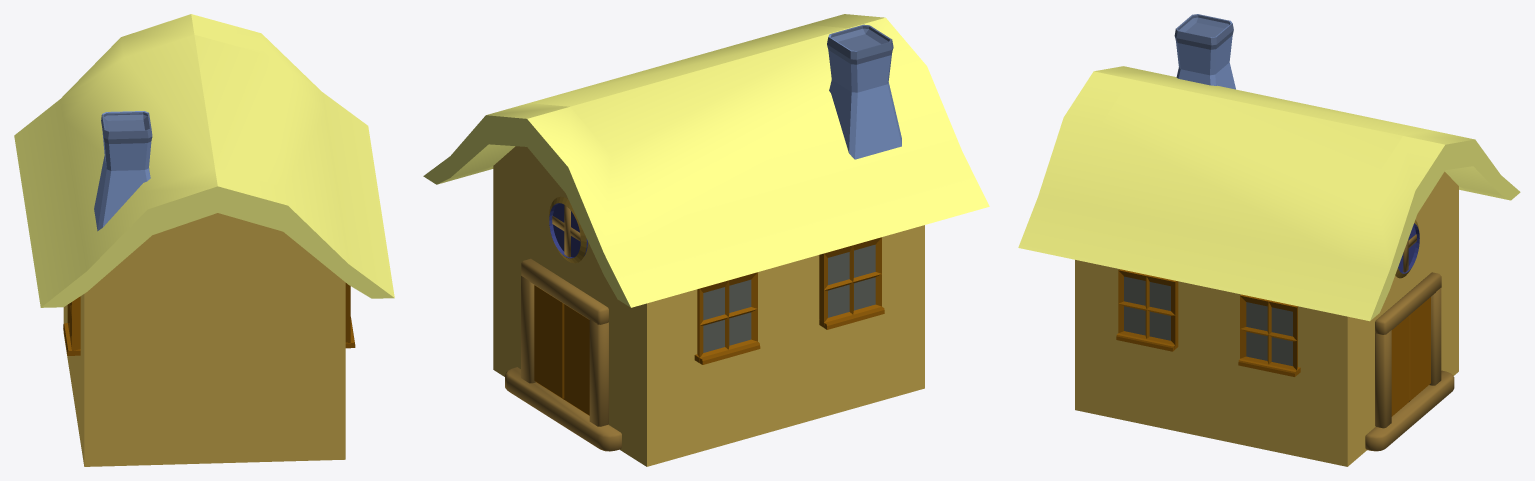
The model's file is house3.fbx.
The picture shows the model from 3 angles, left to right: view 1: azimuth 30°, elevation 25°; view 2: azimuth 150°, elevation 25°; view 3: azimuth 270°, elevation 25°; orthographic projection. The views are drawn at different scales.
Parts seen in each view (by area): view 1: Cube.027; view 2: Cube.027; view 3: Cube.027.
Part boxes in pixels (<box>): Cube.027: <box>14,14,394,466</box>; Cube.027: <box>423,14,989,466</box>; Cube.027: <box>1018,14,1520,466</box>.
Bounding box in the file's own units: 624 × 450 × 655.
